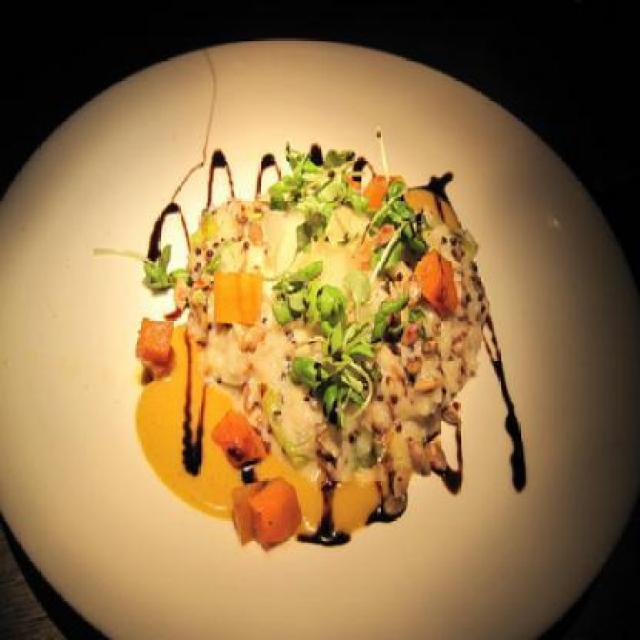Risotto: (194, 168, 522, 534)
